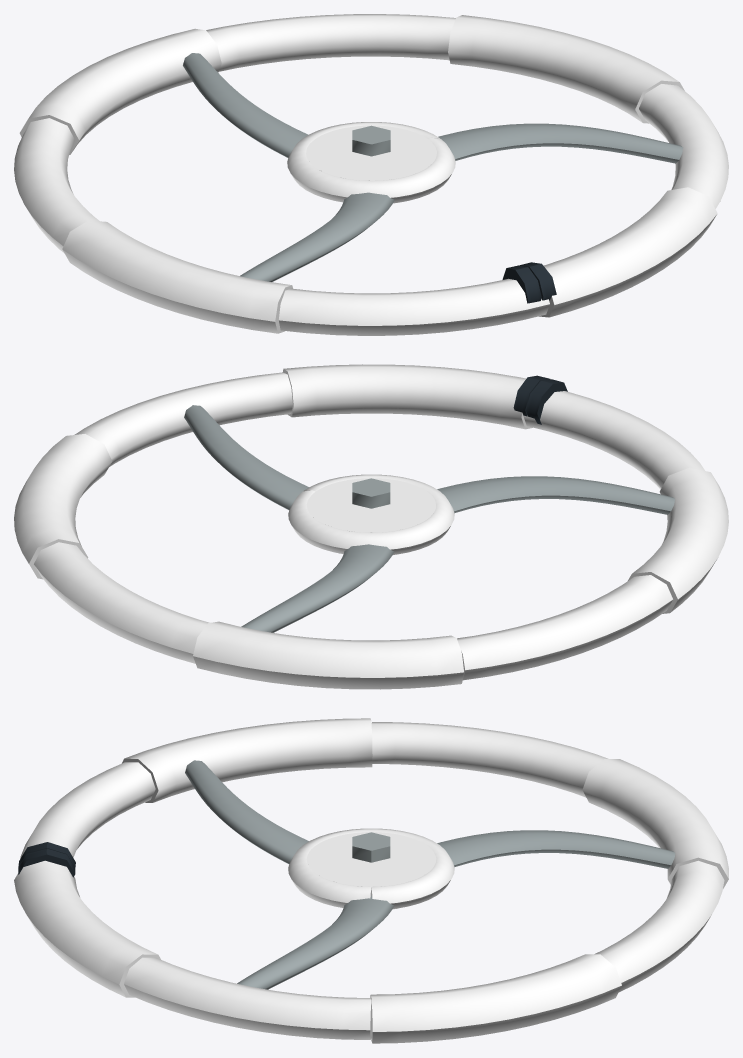
File: Wheel_01_N_白艇・一本朱.glb
3 views of the same model, one above another, from view 1: azimuth 30°, elevation 25°; view 2: azimuth 150°, elevation 25°; view 3: azimuth 270°, elevation 25° (orthographic).
Visible parts, largest first — view 1: Wheel_01_N; view 2: Wheel_01_N; view 3: Wheel_01_N.
Boxes of the visible parts, <box> form: Wheel_01_N: <box>14,14,728,335</box>; Wheel_01_N: <box>14,364,728,689</box>; Wheel_01_N: <box>14,718,728,1043</box>.
Size of the model in its own units: 0.326 by 0.0299 by 0.326.
Materials: 4 (4 with a texture image).
